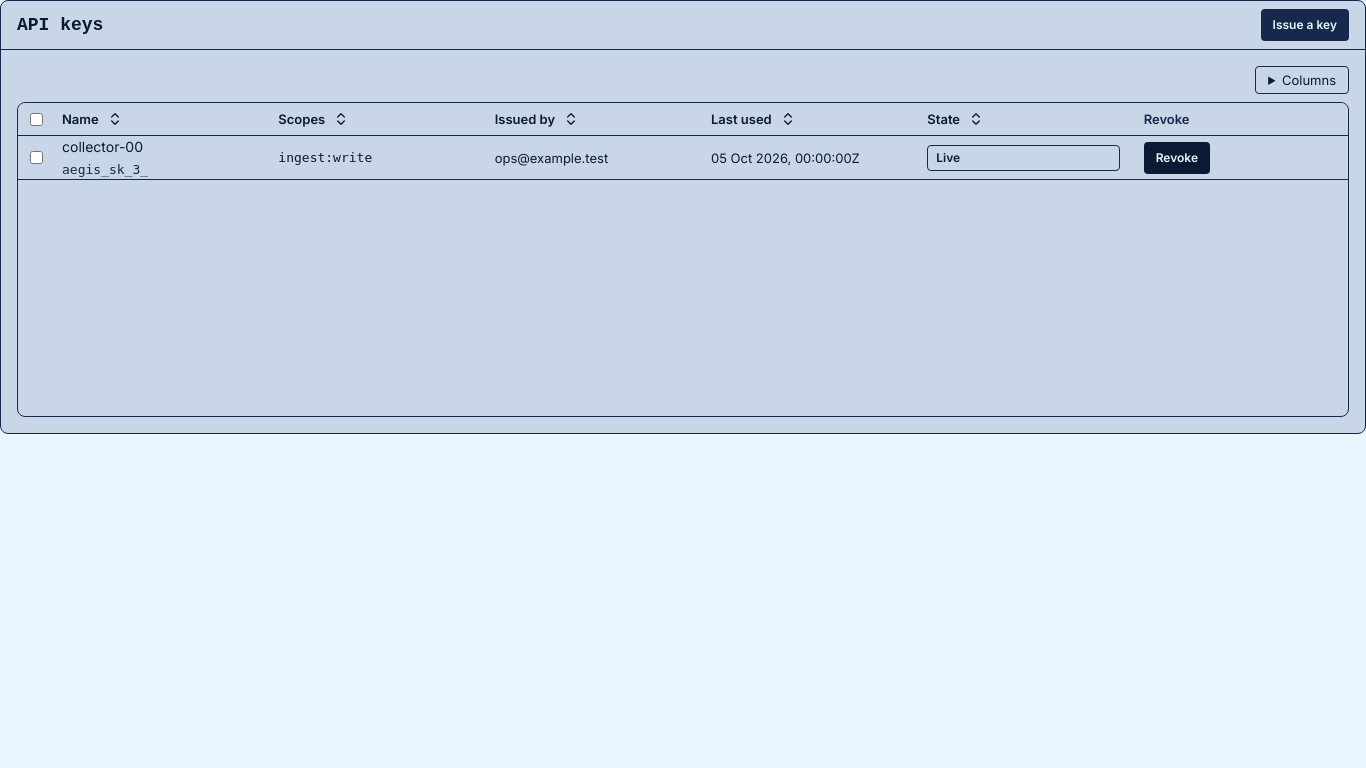
Test: KeysPanel › asks before revoking
Click the button "Revoke" at (1177, 158), box top-left (1144, 142), bottom-right (1210, 174)
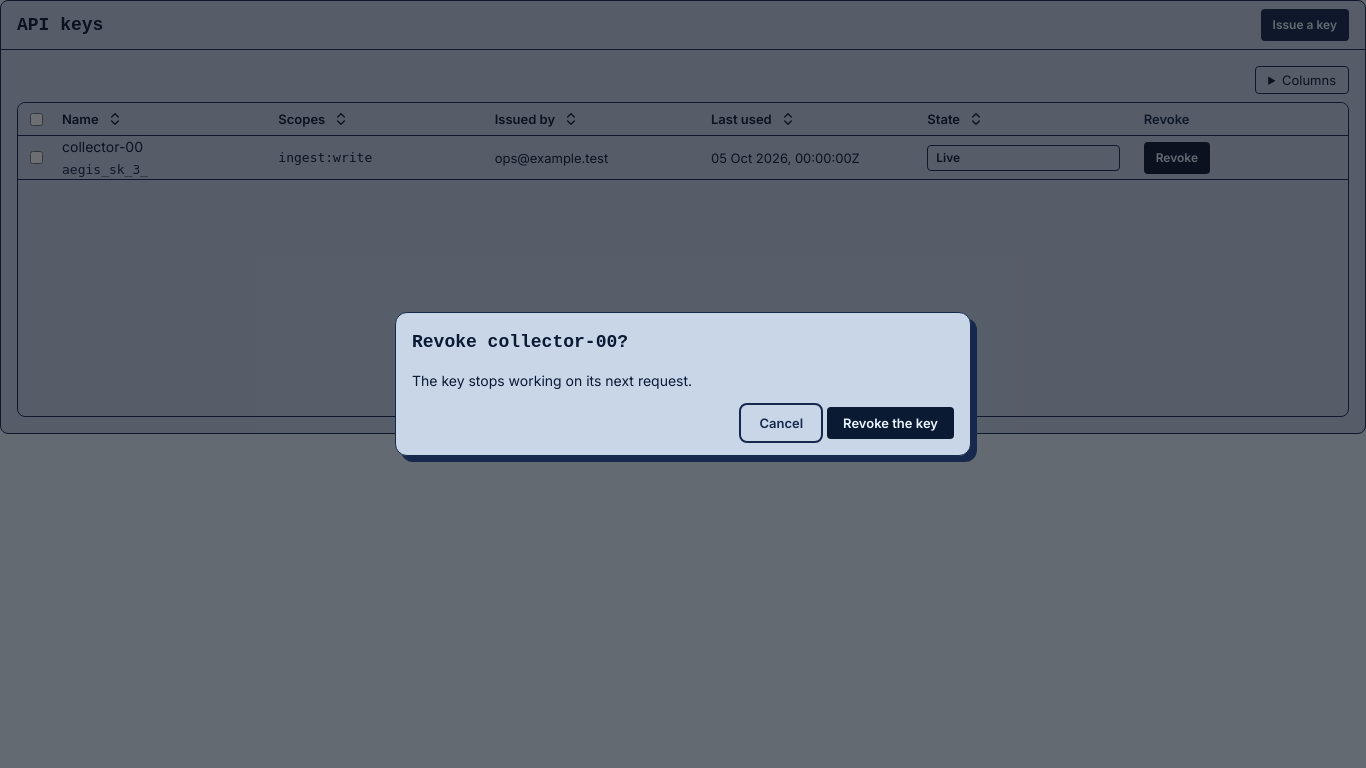
Expected: the text "The key stops working on its next request." is shown, top-left (412, 372), bottom-right (692, 389)
Click the button "Revoke the key" at (891, 423), box top-left (827, 407), bottom-right (954, 439)
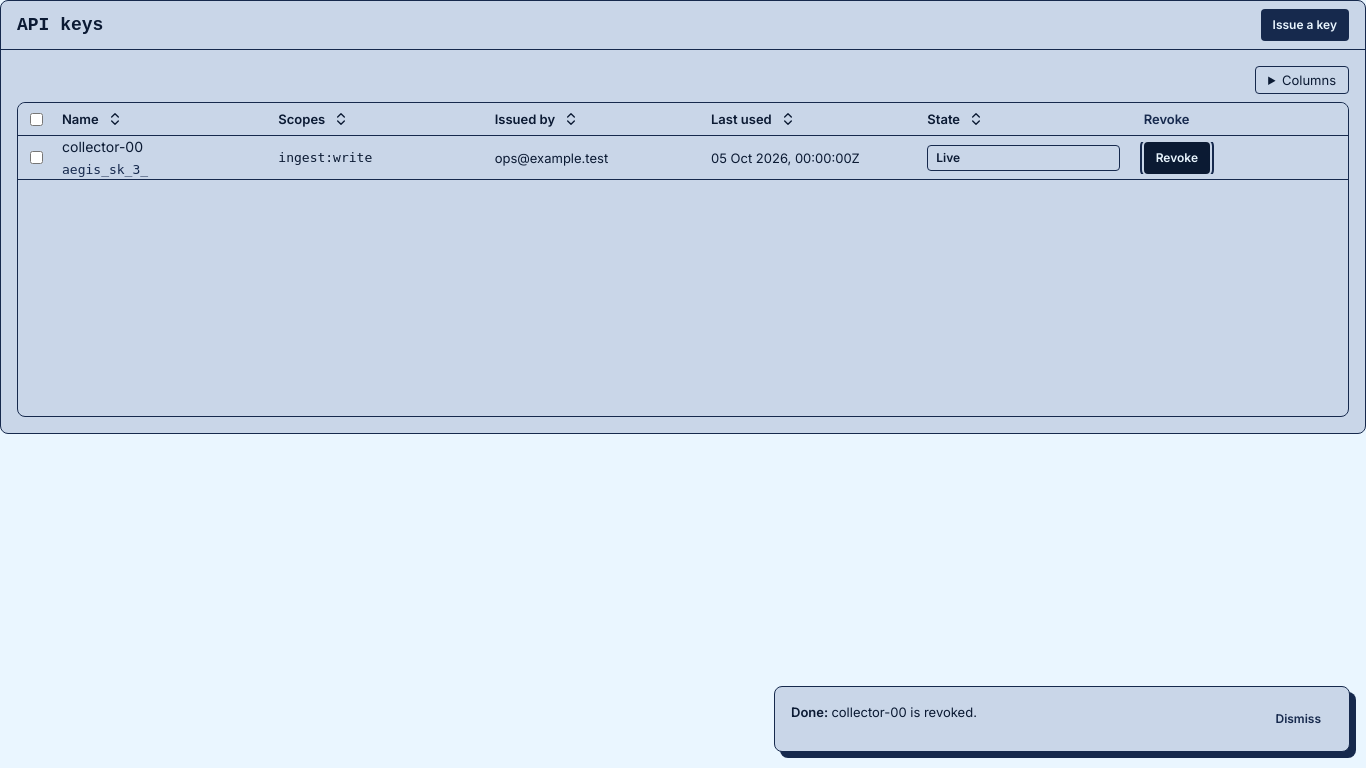
Expected: the dialog is gone
